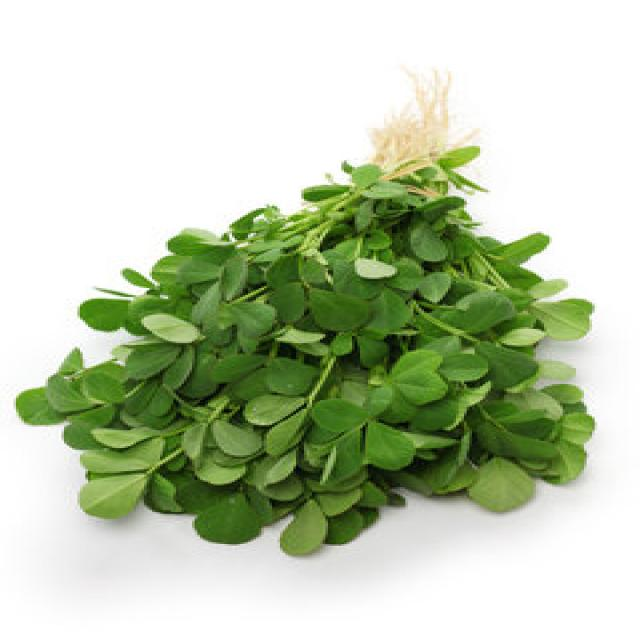Fenugreek: (41, 192, 619, 526)
